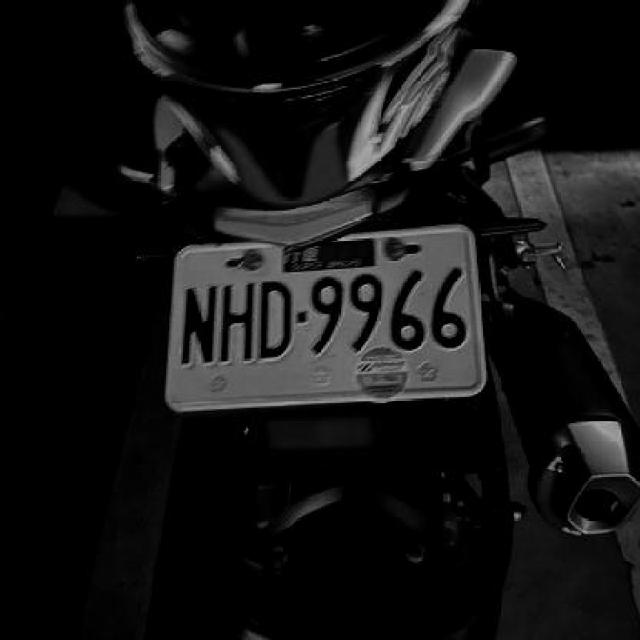-: (297, 309, 308, 323)
6: (429, 262, 469, 349), (385, 268, 426, 348)
9: (343, 274, 385, 351), (308, 272, 344, 352)
D: (255, 274, 294, 355)
H: (218, 278, 256, 358)
N: (182, 284, 218, 364)
